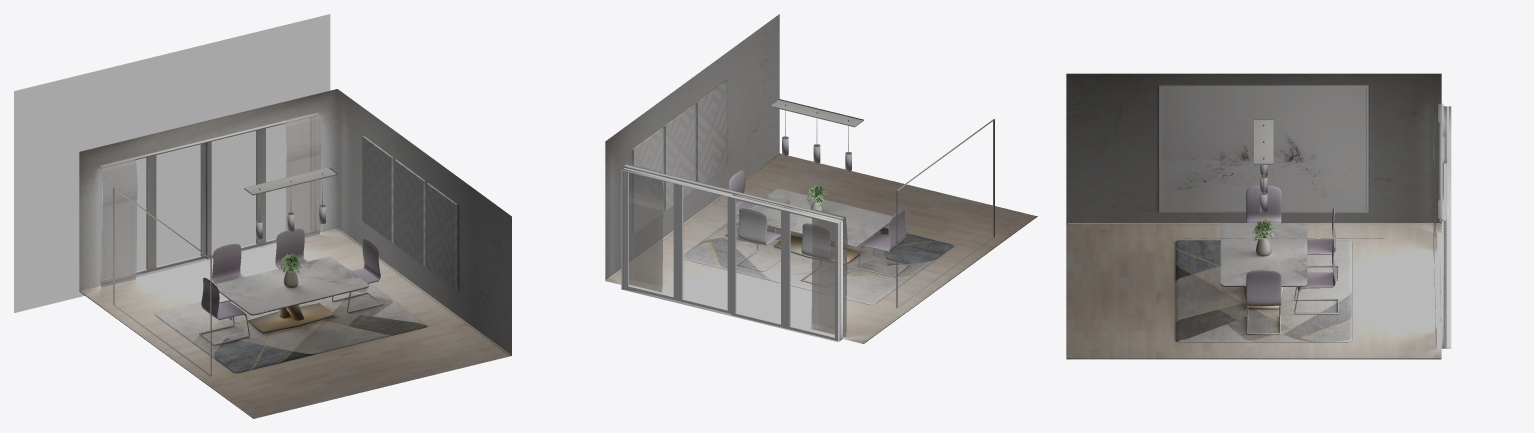
The model's file is sala_comedor.glb.
3 views of the same model, side by side, from view 1: azimuth 30°, elevation 25°; view 2: azimuth 150°, elevation 25°; view 3: azimuth 270°, elevation 25° (orthographic). The views are drawn at different scales.
Visible parts, largest first — view 1: Backdrop, Walls, Modern Dining Room, Carpet, DiningTable, Paintings, Curtains, DoorFrame, LightChrome, PictureFrame, CurtainPole; view 2: Modern Dining Room, Walls, Carpet, DoorFrame, Paintings, DiningTable, Curtains, LightChrome, PictureFrame, CurtainPole; view 3: Modern Dining Room, Walls, Picture, Carpet, DiningTable, DoorFrame, PictureFrame, LightChrome, Curtains, CurtainPole.
Boxes of the visible parts, box(x1,y1,x2,y2) form: Backdrop: box(14, 14, 330, 312); Walls: box(79, 89, 511, 355); Modern Dining Room: box(79, 228, 511, 418); Carpet: box(154, 267, 427, 373); DiningTable: box(199, 228, 382, 345); Paintings: box(362, 136, 457, 288); Curtains: box(99, 112, 321, 287); DoorFrame: box(100, 116, 316, 285); LightChrome: box(244, 167, 337, 222); PictureFrame: box(113, 187, 211, 376); CurtainPole: box(100, 113, 317, 168); Modern Dining Room: box(605, 153, 1037, 343); Walls: box(605, 14, 779, 279); Carpet: box(683, 215, 953, 304); DoorFrame: box(621, 167, 842, 342); Paintings: box(632, 81, 727, 233); DiningTable: box(725, 170, 908, 287); Curtains: box(624, 163, 847, 337); LightChrome: box(770, 99, 863, 154); PictureFrame: box(896, 119, 994, 308); CurtainPole: box(625, 165, 843, 220); Modern Dining Room: box(1066, 223, 1441, 359); Walls: box(1066, 73, 1441, 223); Picture: box(1160, 87, 1366, 211); Carpet: box(1175, 240, 1351, 342); DiningTable: box(1220, 185, 1338, 334); DoorFrame: box(1441, 106, 1451, 348); PictureFrame: box(1159, 85, 1368, 212); LightChrome: box(1254, 119, 1273, 194); Curtains: box(1433, 103, 1443, 346); CurtainPole: box(1439, 104, 1442, 221).
Size of the model in its own units: 6.98 by 4.68 by 8.05.
Materials: 17 (14 with a texture image).
